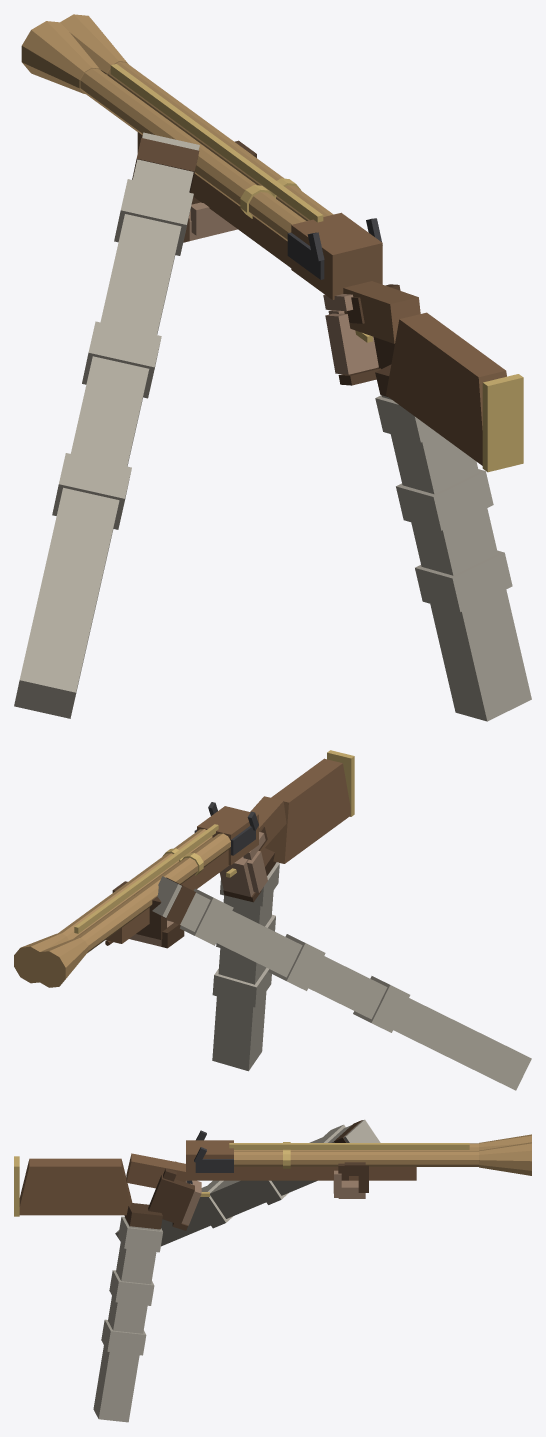
Rendered from blunderbuss.glb.
3 views of the same model, one above another, from view 1: azimuth 30°, elevation 25°; view 2: azimuth 150°, elevation 25°; view 3: azimuth 270°, elevation 25° (orthographic). The views are drawn at different scales.
Parts seen in each view (by area): view 1: BL_Forearm, BR_Forearm, B_Butt, B_Barrel0, B_Breech, B_ButtPlate, BR_Wrap2, BR_Wrap1, B_Bell0, B_Rib, B_Wrist, BL_Wrap1 (+10 smaller); view 2: BL_Forearm, BR_Forearm, B_Butt, B_Barrel0, B_Bell0, B_Rib, B_Breech, B_Barrel1, BR_Wrap2, B_Forend, BL_Wrap1, BL_Wrap2 (+11 smaller); view 3: B_Butt, BR_Forearm, B_Barrel1, BL_Forearm, B_Forend, B_Rib, BR_Palm, B_Bell1, B_Wrist, B_Breech, BR_Wrap2, BR_Wrap1 (+9 smaller).
Boxes of the visible parts, x1,y1,x2,y2 form: BL_Forearm: (14,132,199,718); BR_Forearm: (381,395,531,721); B_Butt: (386,312,506,465); B_Barrel0: (80,68,306,241); B_Breech: (291,212,382,299); B_ButtPlate: (482,374,523,472); BR_Wrap2: (415,550,512,612); BR_Wrap1: (396,469,493,530); B_Bell0: (21,21,100,93); B_Rib: (110,64,323,222); B_Wrist: (343,281,420,343); BL_Wrap1: (82,321,161,398); BL_Forearm: (152,876,531,1090); BR_Forearm: (212,864,275,1071); B_Butt: (265,758,350,863); B_Barrel0: (76,833,230,952); B_Bell0: (32,937,88,987); B_Rib: (74,824,218,933); B_Breech: (197,806,258,865); B_Barrel1: (58,829,212,940); BR_Wrap2: (212,967,271,1007); B_Forend: (105,850,229,943); BL_Wrap1: (268,934,325,990); BL_Wrap2: (353,976,410,1032); B_Butt: (19,1158,132,1215); BR_Forearm: (93,1217,159,1422); B_Barrel1: (234,1151,478,1166); BL_Forearm: (115,1119,380,1246); B_Forend: (234,1166,416,1180); B_Rib: (229,1143,469,1149); BR_Palm: (148,1175,194,1225); B_Bell1: (479,1142,531,1175); B_Wrist: (126,1153,185,1188); B_Breech: (186,1140,233,1180); BR_Wrap2: (101,1319,146,1355); BR_Wrap1: (109,1270,154,1305).
Bounding box in the file's own units: 0.6726 × 0.605 × 1.08.
